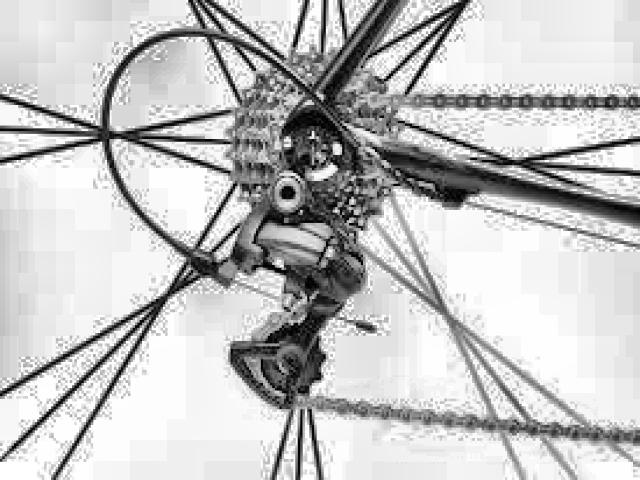cassette: (223, 44, 408, 238)
rear_derailleur: (187, 172, 368, 413)
